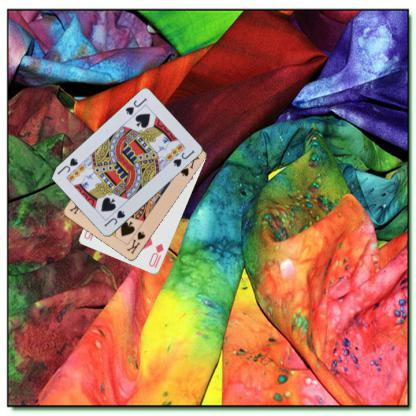10d: (146, 241, 165, 269)
Js: (123, 95, 148, 117), (101, 208, 127, 228)
Ks: (124, 229, 147, 255)
